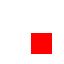square: (31, 33, 51, 53)
